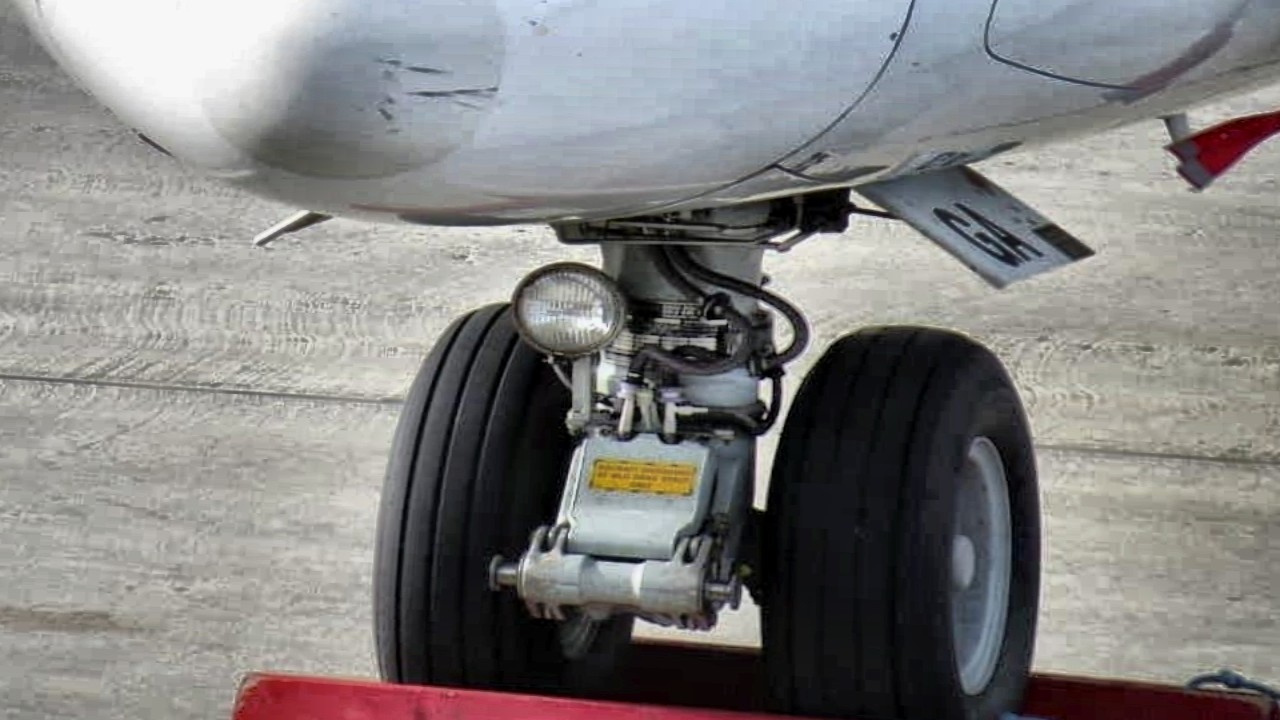chock: (551, 622, 1280, 720), (213, 657, 1107, 720)
wheel: (753, 318, 1042, 720), (363, 292, 636, 701)
